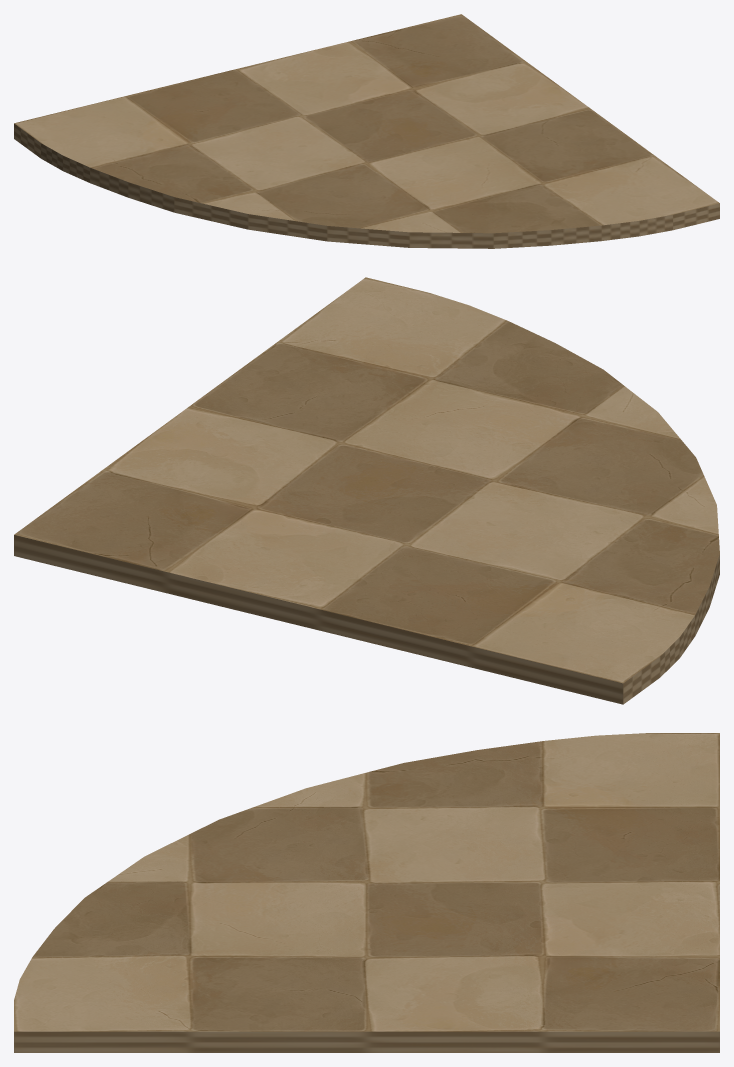
File: ARC0510049.fbx
3 views of the same model, one above another, from view 1: azimuth 30°, elevation 25°; view 2: azimuth 150°, elevation 25°; view 3: azimuth 270°, elevation 25° (orthographic). The views are drawn at different scales.
Parts seen in each view (by area): view 1: smARC0510049; view 2: smARC0510049; view 3: smARC0510049.
Part boxes in pixels (<box>): smARC0510049: <box>14,14,719,248</box>; smARC0510049: <box>14,277,719,704</box>; smARC0510049: <box>14,733,719,1052</box>.
Bounding box in the file's own units: 300 × 10 × 300.
Materials: 1 (1 with a texture image).
